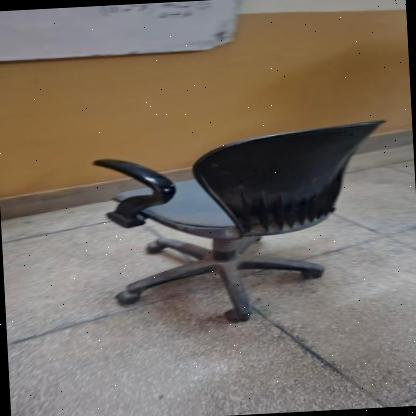chair: (76, 107, 402, 335)
